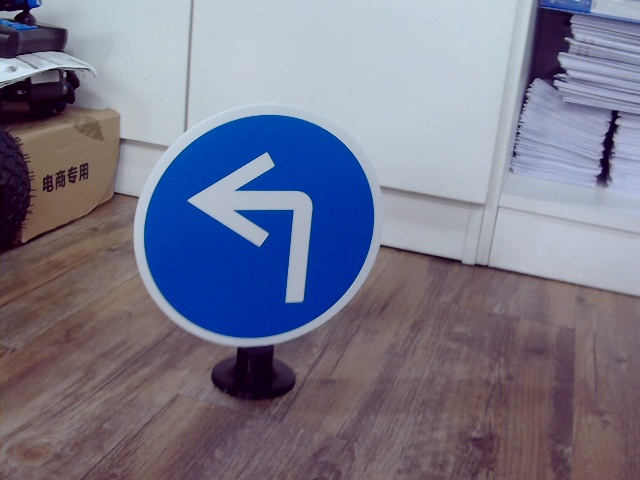turn_left: (192, 150, 323, 304)
